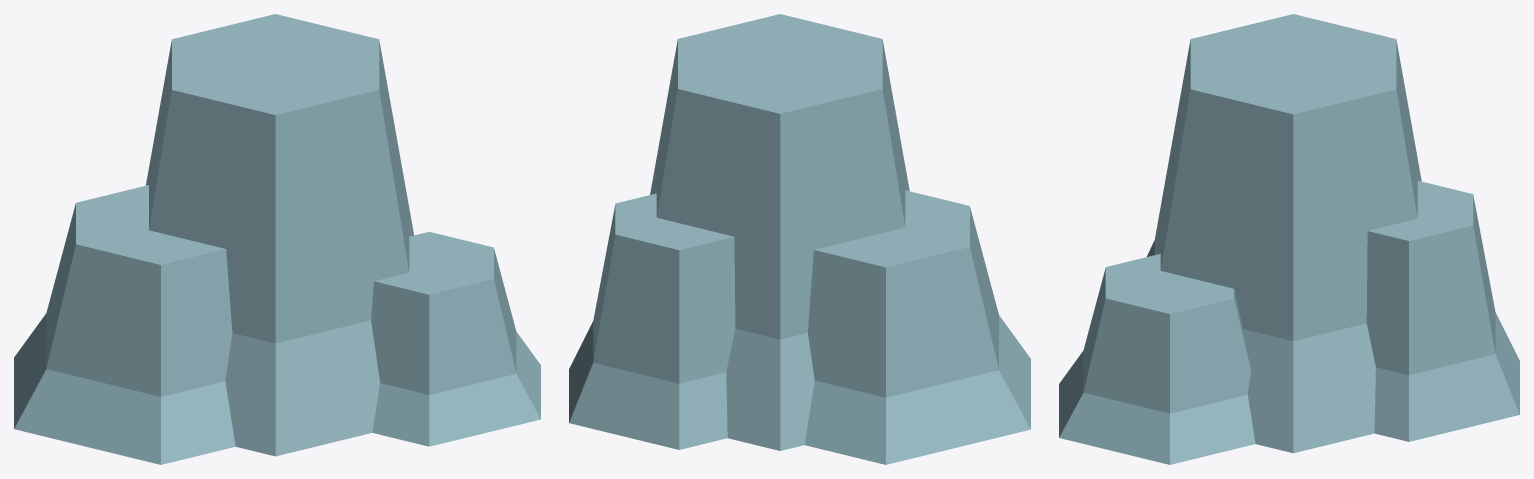
File: rocksTall.obj
3 views of the same model, side by side, from view 1: azimuth 30°, elevation 25°; view 2: azimuth 150°, elevation 25°; view 3: azimuth 270°, elevation 25° (orthographic).
Parts seen in each view (by area): view 1: rocksTall; view 2: rocksTall; view 3: rocksTall.
Boxes of the visible parts, x1,y1,x2,y2 form: rocksTall: [14, 14, 540, 464]; rocksTall: [569, 14, 1030, 464]; rocksTall: [1059, 14, 1519, 464].
Size of the model in its own units: 0.9342 by 0.59 by 0.8148.
